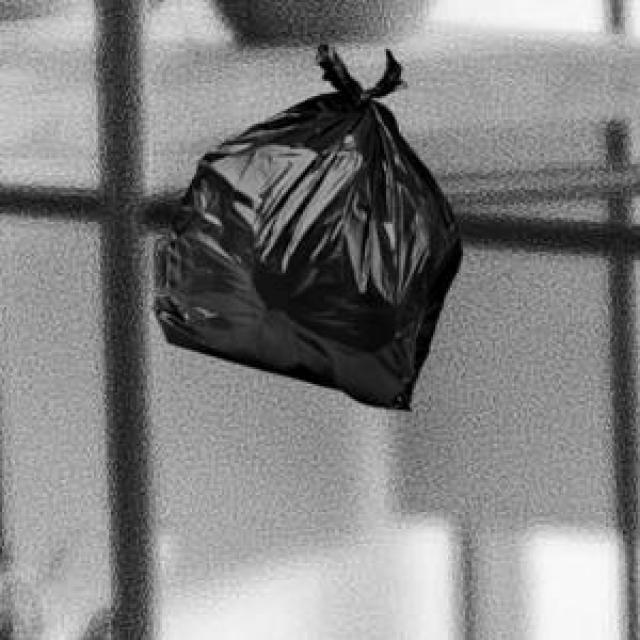miscellaneous trash: (149, 41, 459, 405)
